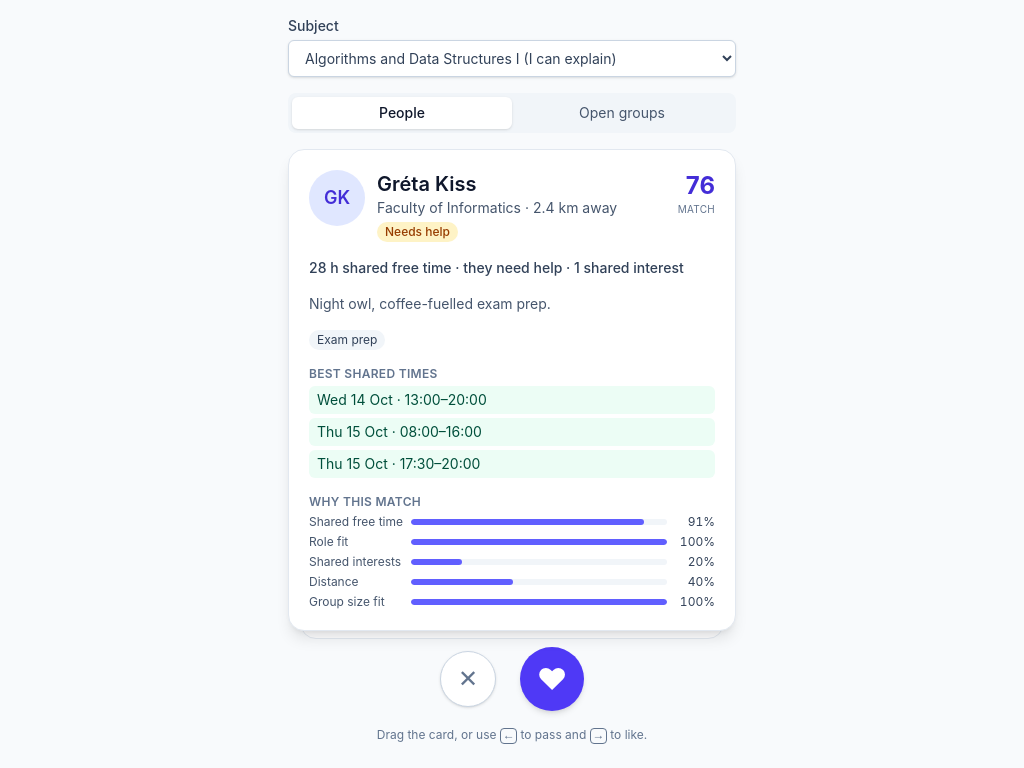
Test case: Match modal › opens the new group with both members
(page scrolled)
Click the button named "Pass" at (468, 679), box [440,651,496,707]
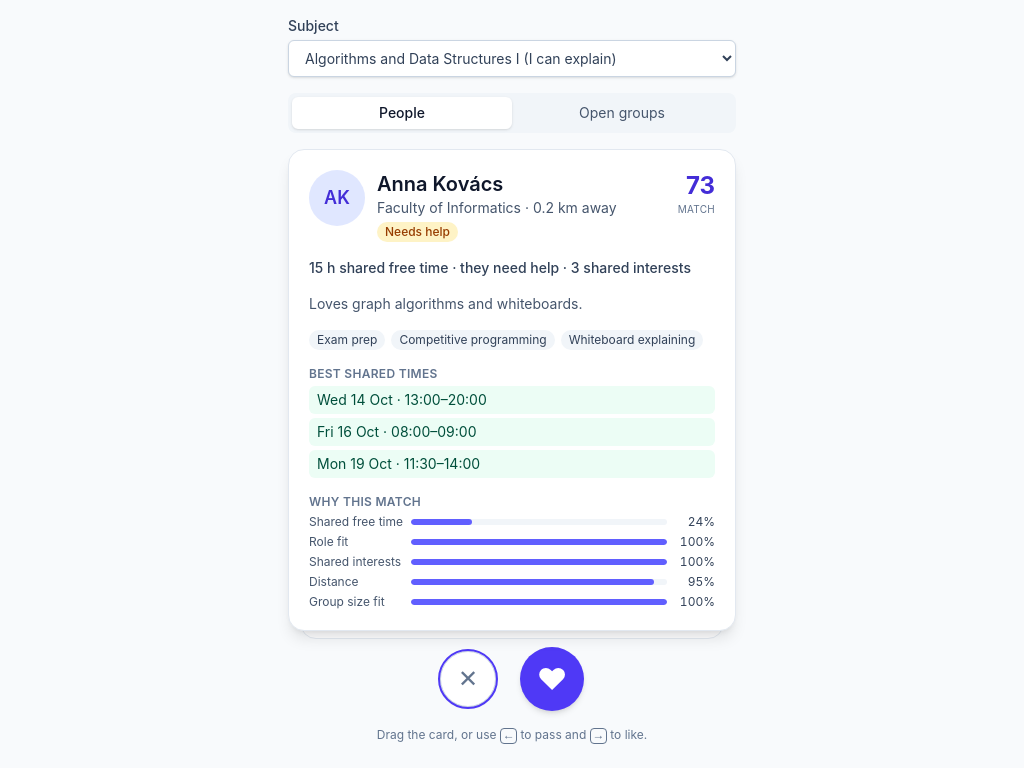
Click the button named "Like" at (552, 679), box [520,647,584,711]
(page scrolled)
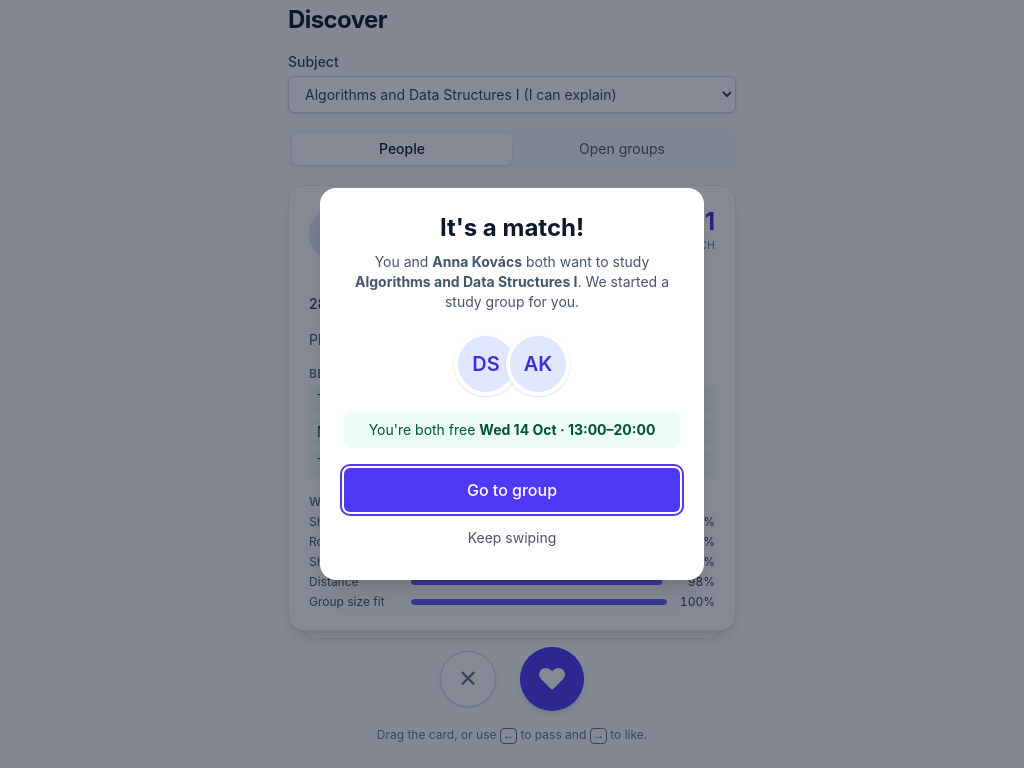
Click the link "Go to group" at (512, 490), box [344,468,680,512]
(page scrolled)
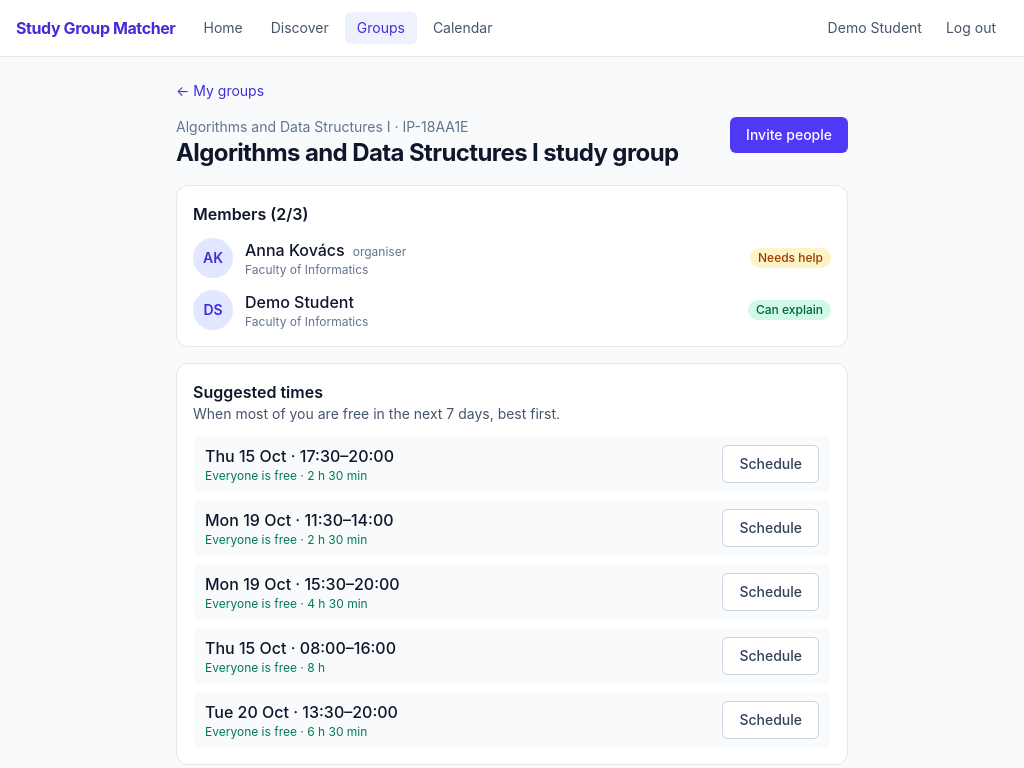
Now the heading "Algorithms and Data Structures I study group" is shown, box [176,137,678,169]
Now the list items read "AKAnna KovácsorganiserFaculty of InformaticsNeeds help", "DSDemo StudentFaculty of InformaticsCan explain", in this order, box [193,238,831,278]; [193,290,831,330]
